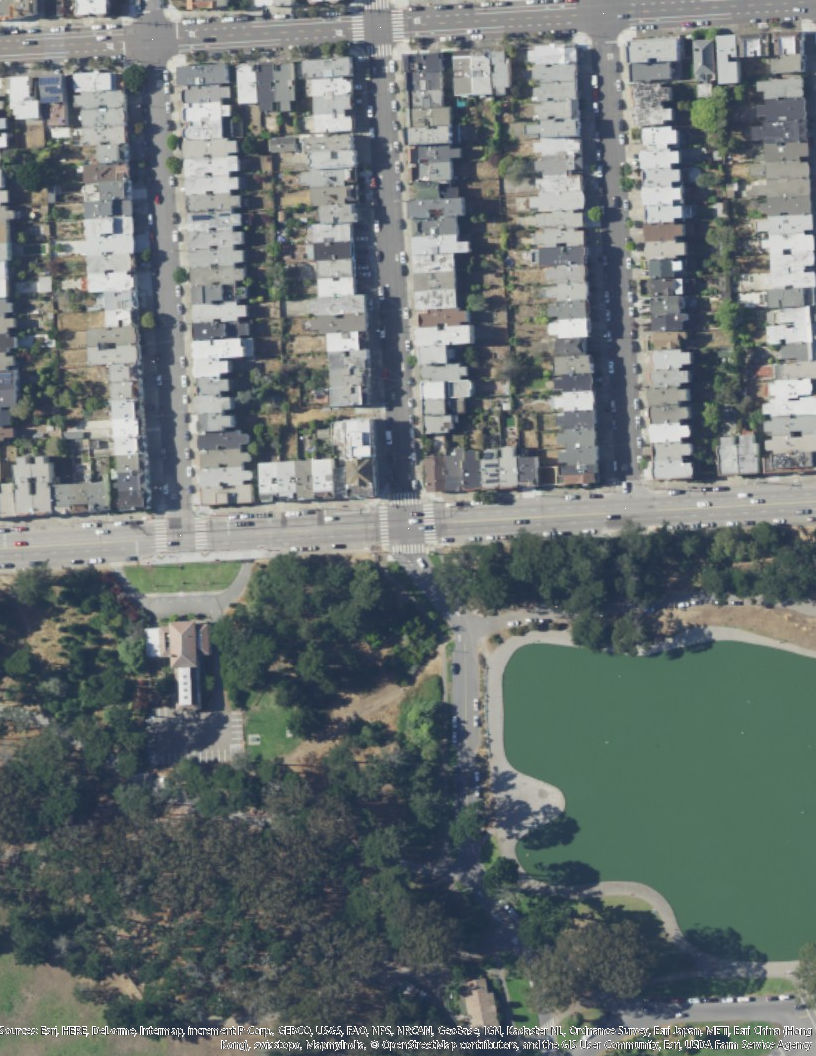zebracross: (423, 504, 438, 545), (154, 518, 168, 557), (390, 10, 406, 42), (194, 517, 208, 553), (379, 507, 390, 551), (350, 13, 365, 42), (389, 493, 421, 505), (370, 44, 393, 59), (394, 544, 428, 553), (366, 1, 390, 11)
